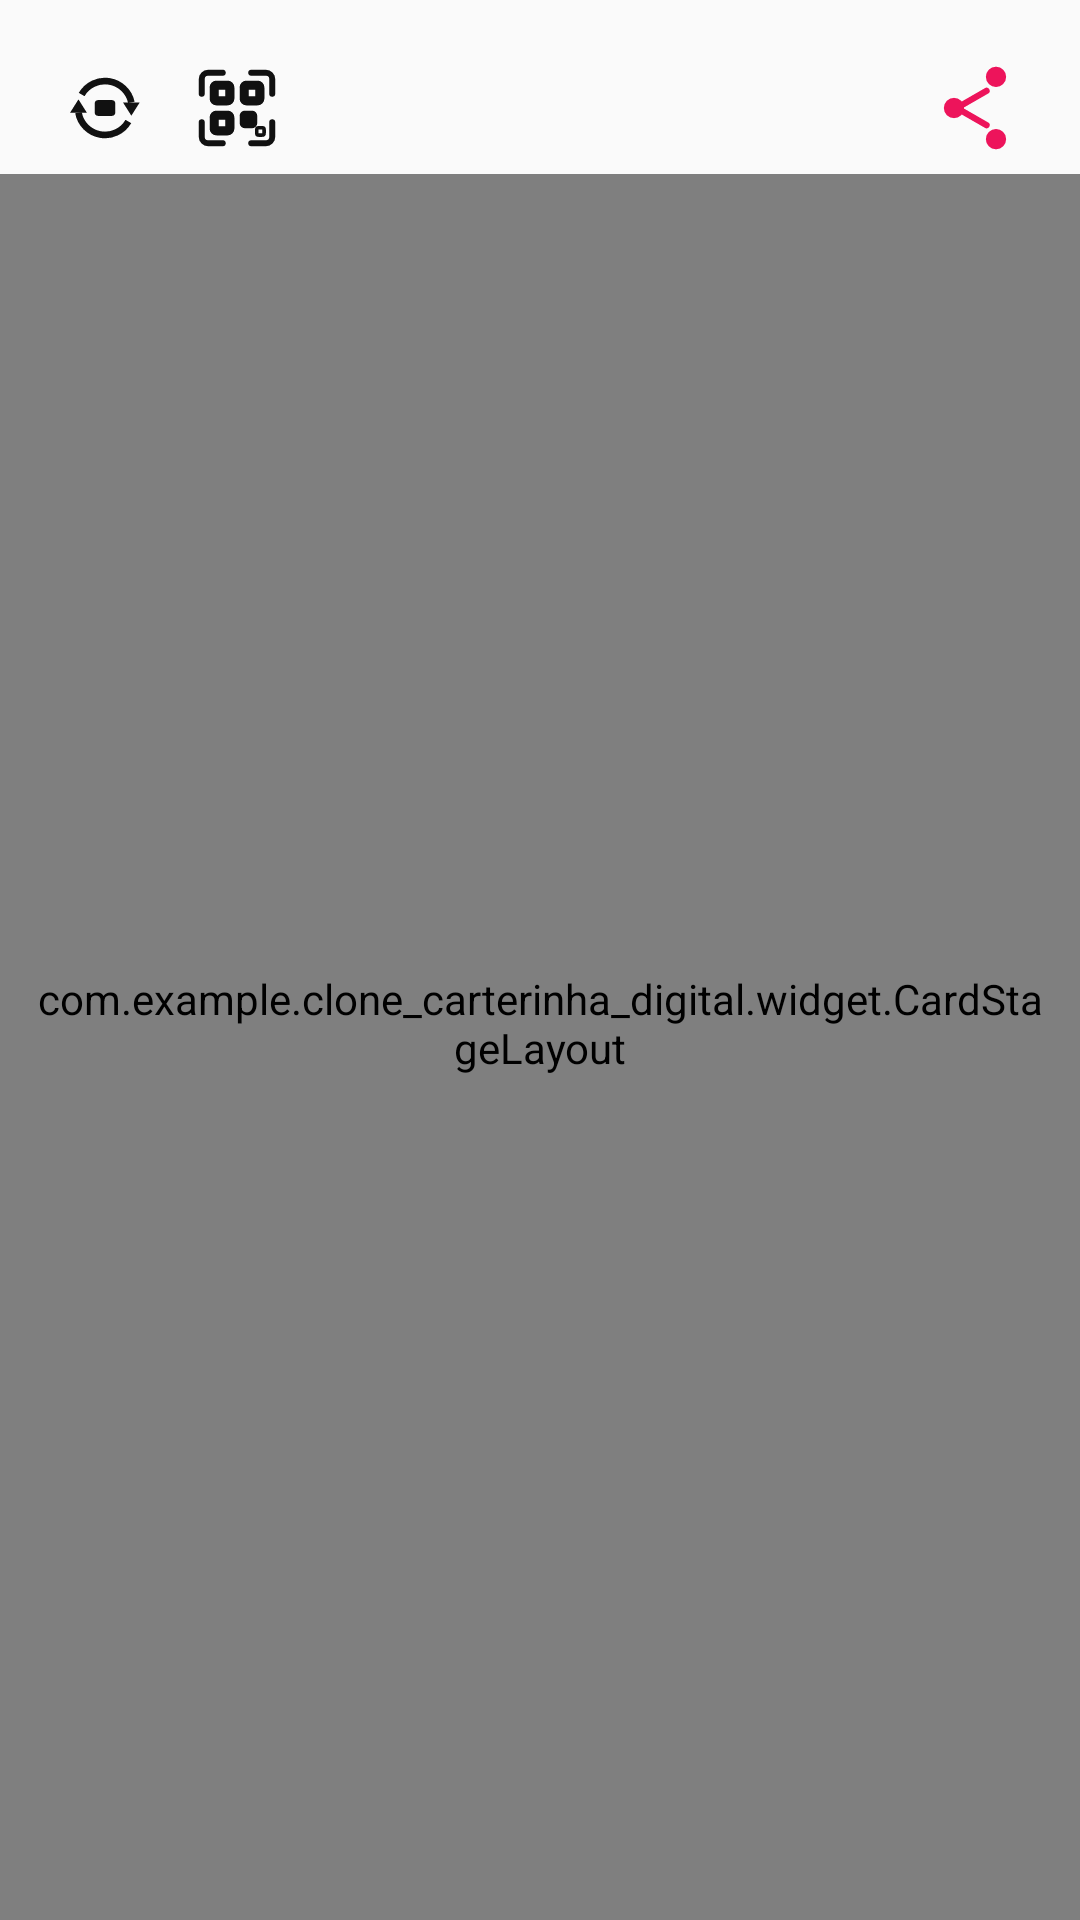

Screen size 1080 x 1920. Icon name, then its box in pixels as (x1,y1,x2,y2):
Compartilhar: (944,66,1006,150)
QR Code: (198,69,276,147)
Virar a carteirinha: (70,77,140,139)
